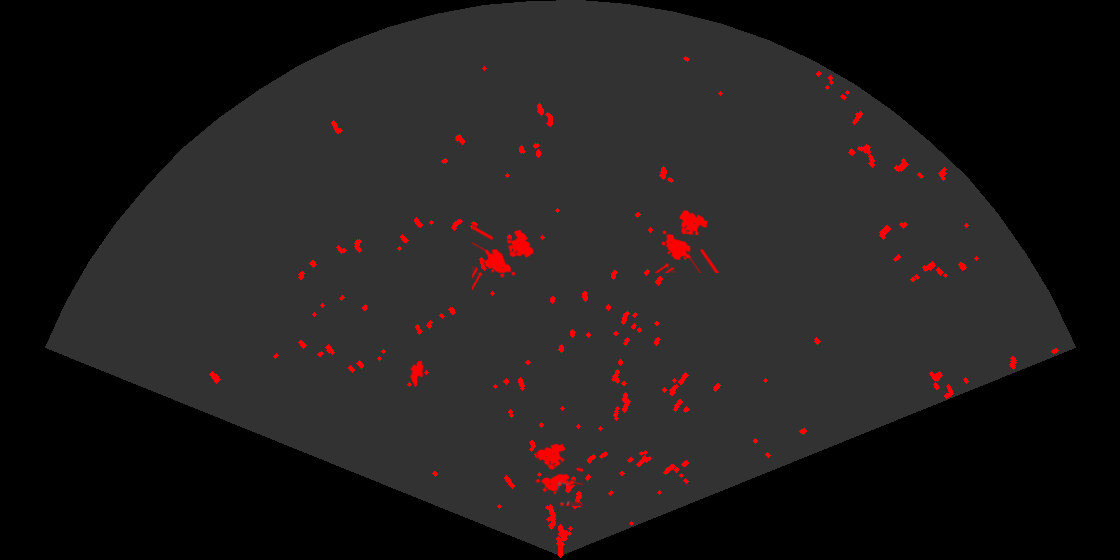AUV: (409, 359, 425, 388)
cage: (653, 208, 721, 273), (472, 224, 535, 292), (534, 442, 583, 506)
